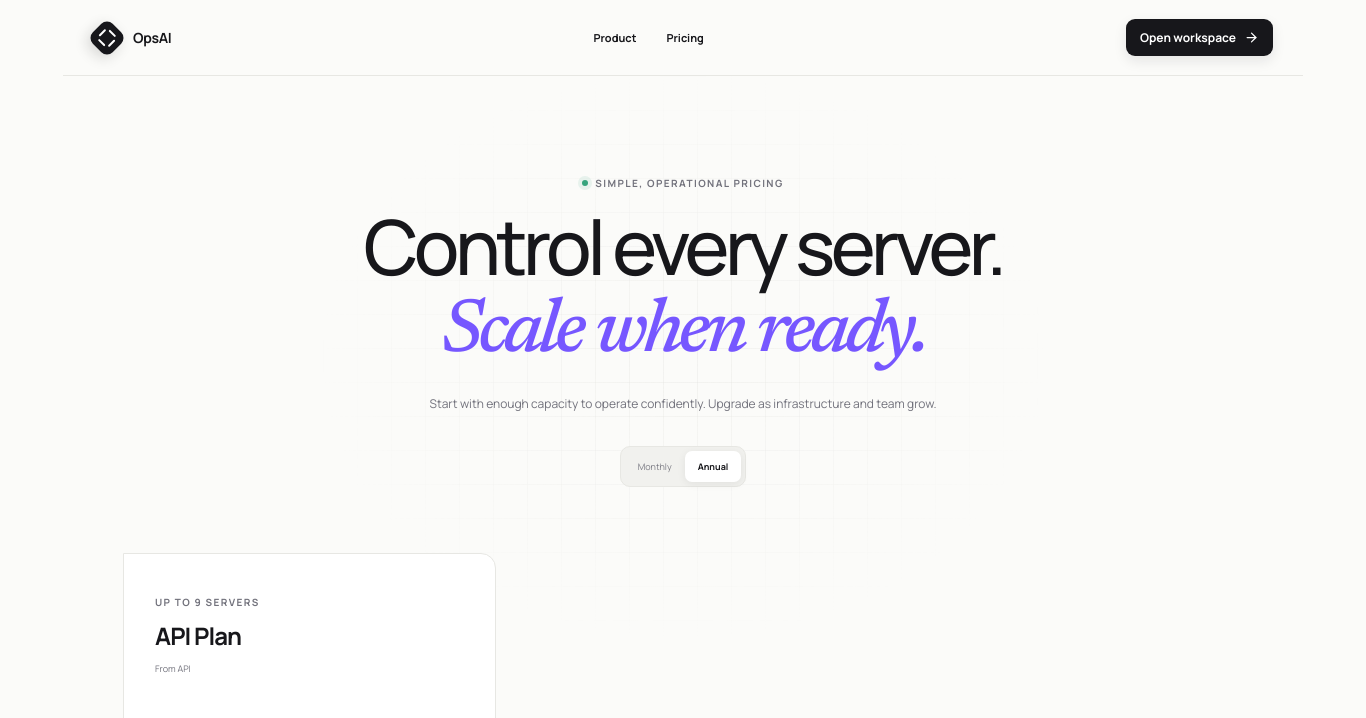
Test case: renders public API plans without hardcoded fallback pricing
This screenshot has width=1366, height=718.
Expected: the heading "API Plan" is shown, [155,619,241,652]
Click the button "Monthly": (655, 466) [625,451,685,482]
(page scrolled)
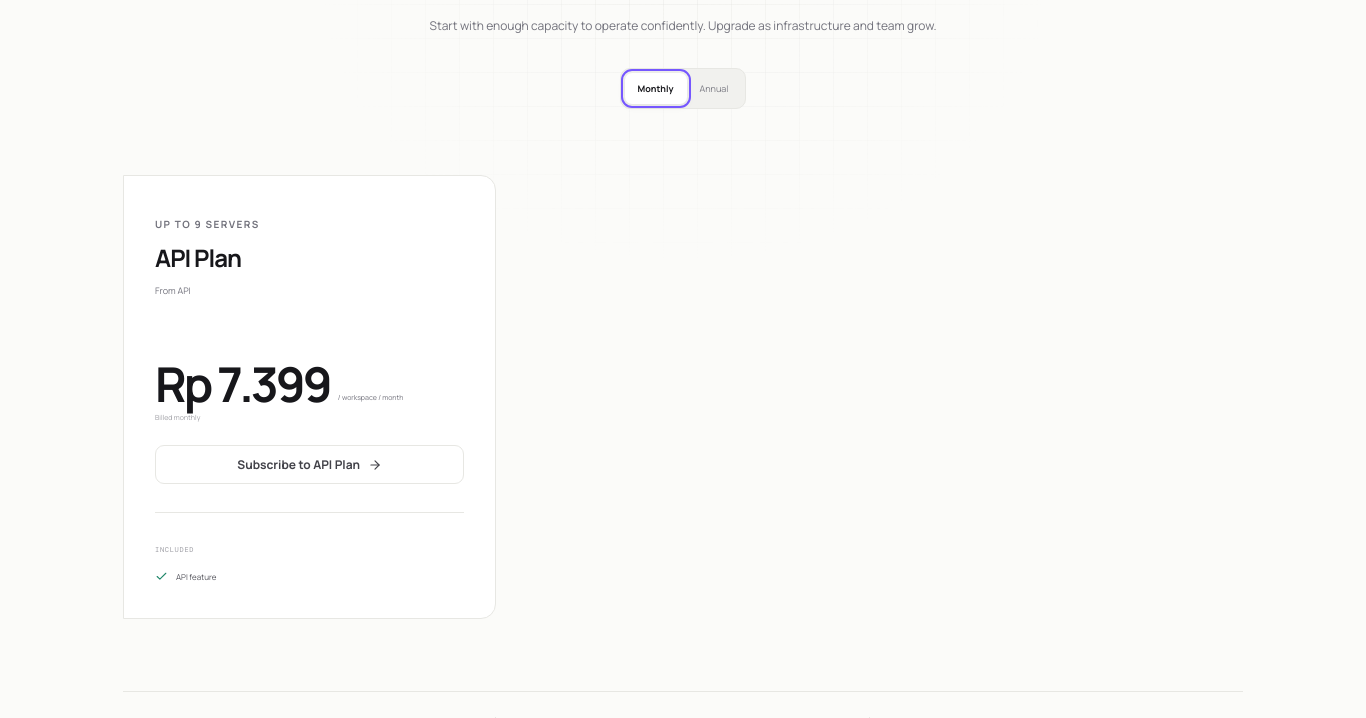
Expected: the text "Rp 7.399" is shown, [155,360,330,408]
